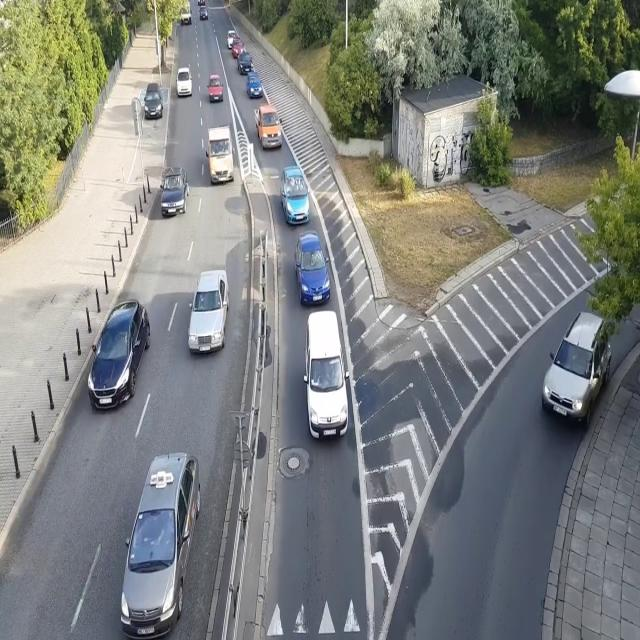car: (120, 450, 200, 640), (541, 310, 612, 433), (89, 296, 151, 411), (188, 270, 230, 357), (294, 230, 332, 306), (279, 166, 312, 226), (160, 168, 188, 218), (144, 81, 165, 119), (176, 65, 193, 97), (207, 74, 224, 102), (245, 71, 262, 97), (238, 52, 254, 76), (232, 38, 245, 58), (226, 30, 238, 50), (199, 5, 208, 22)
truck: (253, 104, 283, 150)
van: (303, 311, 351, 441), (206, 126, 234, 184), (178, 3, 192, 25)
